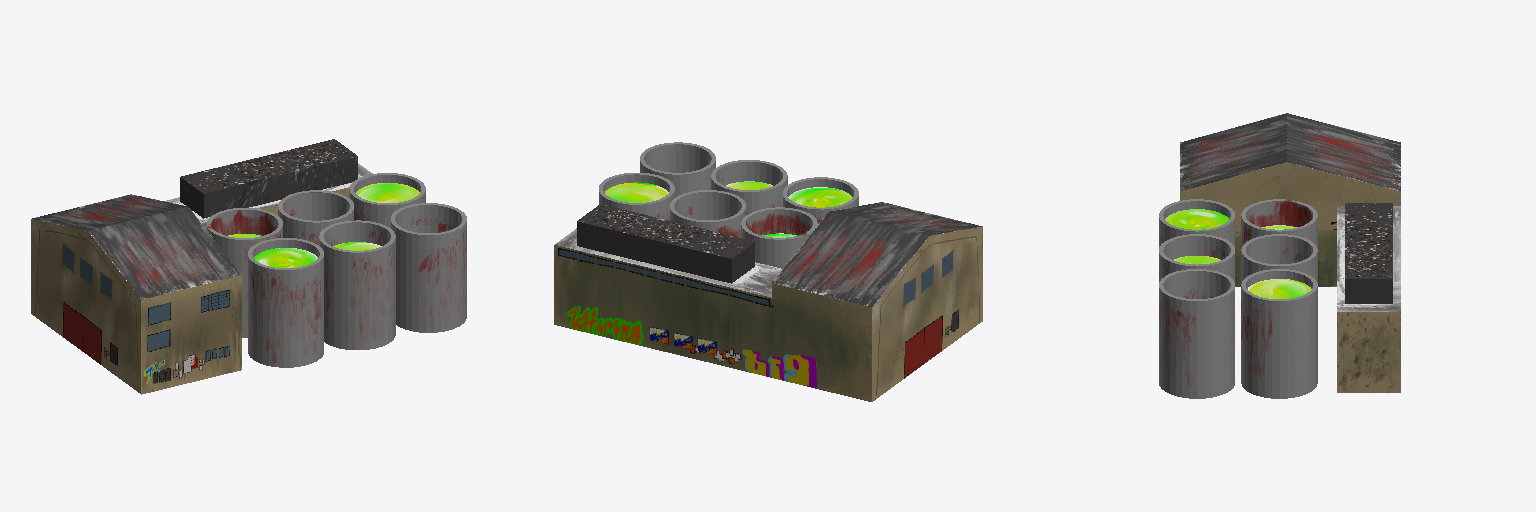
3 views of the same model, side by side, from view 1: azimuth 30°, elevation 25°; view 2: azimuth 150°, elevation 25°; view 3: azimuth 270°, elevation 25° (orthographic).
Parts seen in each view (by area): view 1: Cylinder.003_sides, Cube_wall-0, Cube_roof-0, Cube_roofbox, Cylinder.003_liquids; view 2: Cube_wall-0, Cylinder.003_sides, Cube_roof-0, Cube_roofbox, Cylinder.003_liquids, Cube_roof-1; view 3: Cylinder.003_sides, Cube_wall-0, Cube_roof-0, Cube_roofbox, Cylinder.003_liquids, Cube_roof-1.
Part boxes in pixels (x1,y1,x2,y2): Cylinder.003_sides: (207, 173, 466, 367); Cube_wall-0: (31, 187, 349, 394); Cube_roof-0: (32, 194, 240, 299); Cube_roofbox: (180, 139, 357, 218); Cylinder.003_liquids: (228, 183, 419, 267); Cube_wall-0: (554, 227, 982, 401); Cylinder.003_sides: (599, 142, 858, 268); Cube_roof-0: (772, 202, 982, 306); Cube_roofbox: (577, 204, 754, 283); Cylinder.003_liquids: (605, 181, 852, 237); Cube_roof-1: (555, 228, 781, 297); Cylinder.003_sides: (1159, 199, 1317, 398); Cube_wall-0: (1180, 162, 1400, 392); Cube_roof-0: (1180, 113, 1400, 190); Cube_roofbox: (1345, 203, 1392, 303); Cylinder.003_liquids: (1165, 209, 1311, 298); Cube_roof-1: (1337, 206, 1400, 311).
Bounding box in the file's own units: 5.53 × 2.01 × 3.53.
Materials: 6 (6 with a texture image).